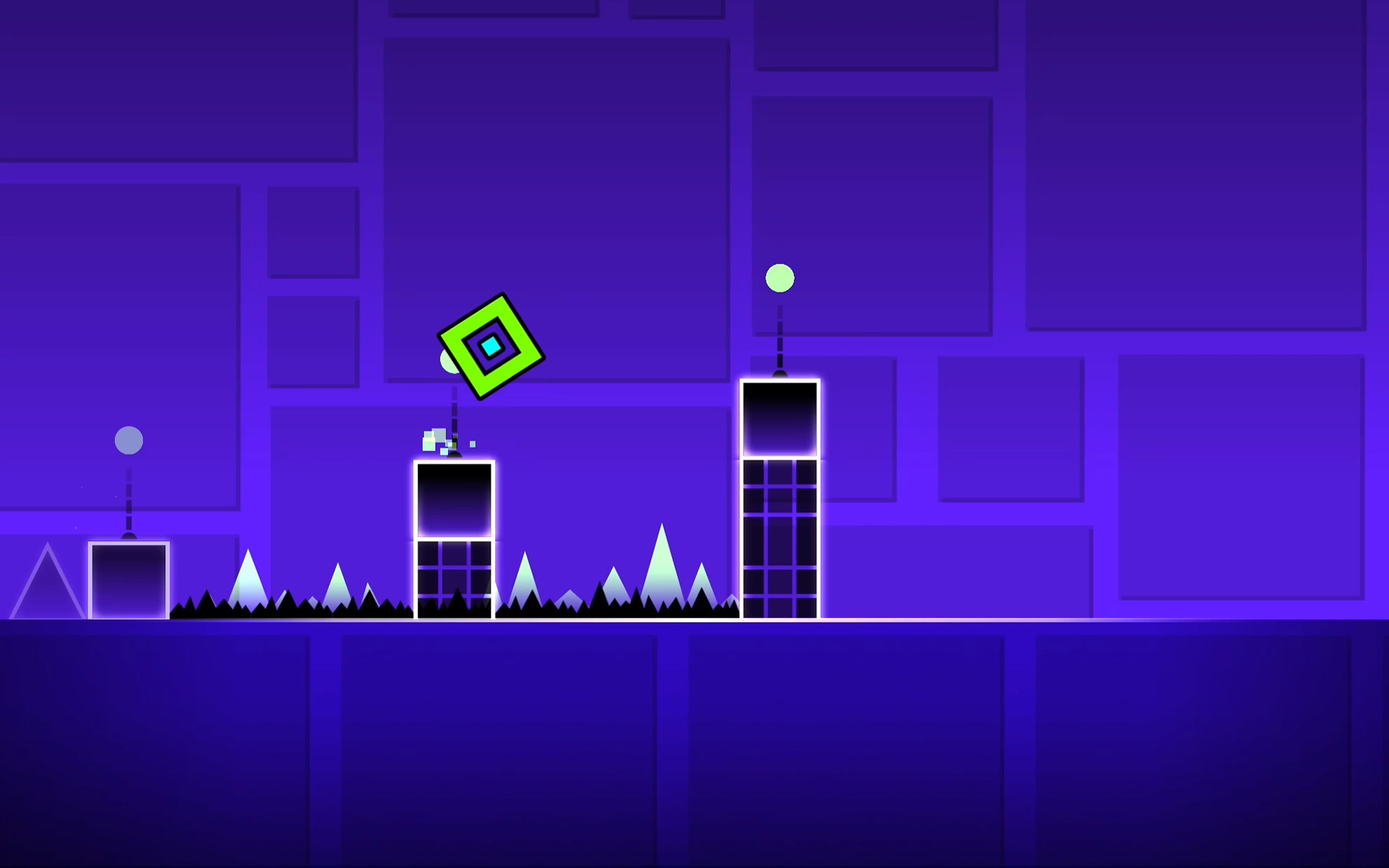Block: (85, 540, 172, 617), (414, 460, 494, 538), (741, 377, 818, 458)
Block2: (741, 461, 818, 620), (416, 540, 494, 618)
Player: (437, 293, 545, 398)
Spike: (12, 544, 85, 617)
Spike3: (498, 590, 738, 620), (172, 592, 411, 620)
